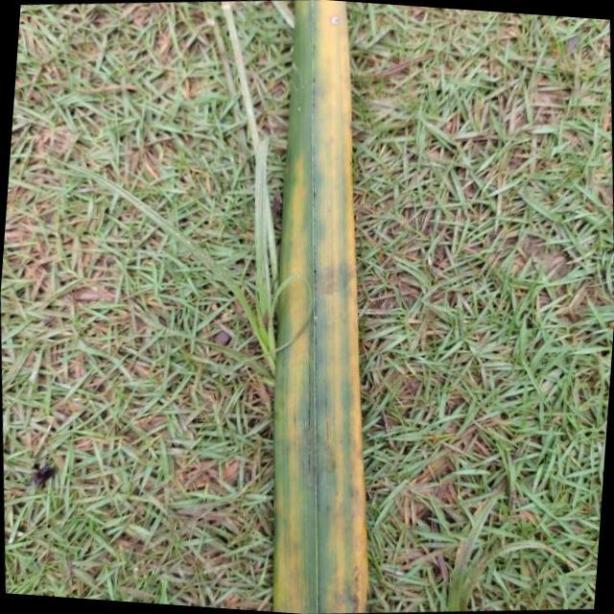Megnesium: (274, 0, 370, 614)
